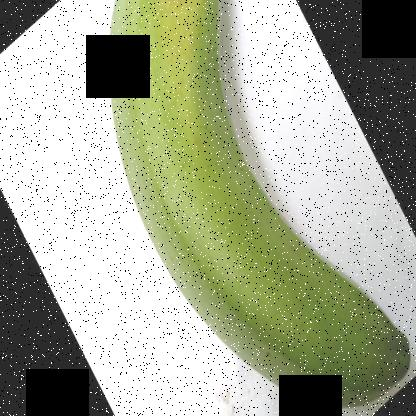freshunripe: (101, 0, 415, 415)
